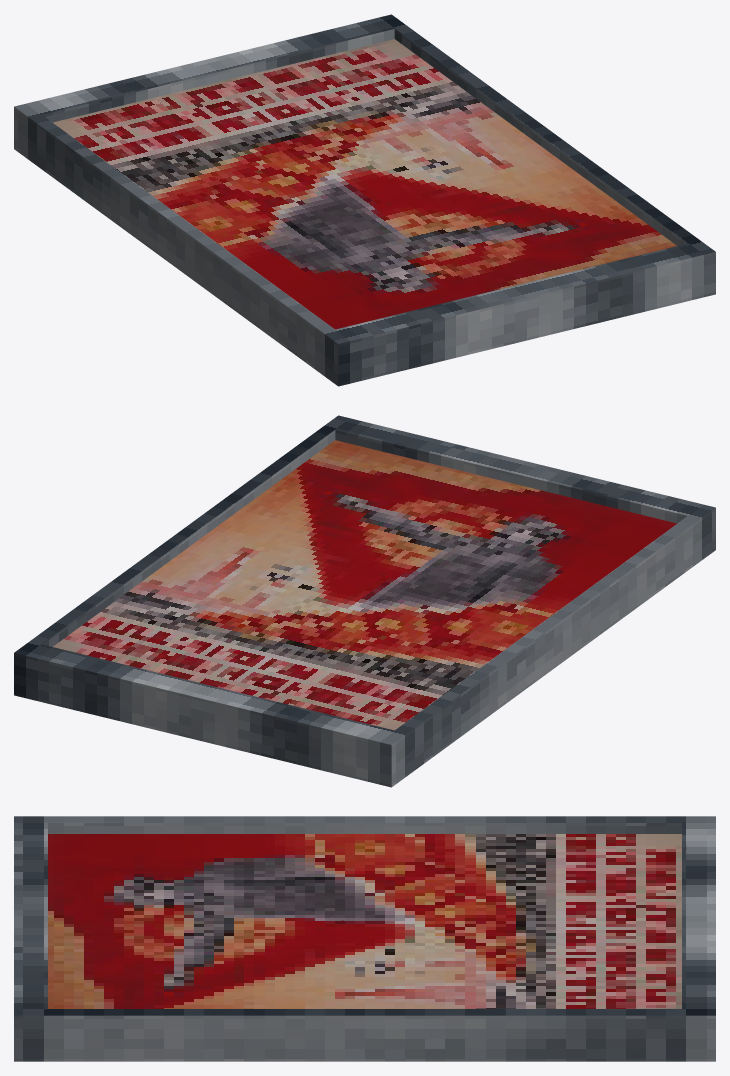
Rendered from env_billboard.glb.
The picture shows the model from 3 angles, top to bottom: view 1: azimuth 30°, elevation 25°; view 2: azimuth 150°, elevation 25°; view 3: azimuth 270°, elevation 25°; orthographic projection. The views are drawn at different scales.
Visible parts, largest first — view 1: env_billboard; view 2: env_billboard; view 3: env_billboard.
Boxes of the visible parts, <box> form: env_billboard: <box>14,14,715,386</box>; env_billboard: <box>14,415,715,787</box>; env_billboard: <box>14,816,715,1061</box>.
Bounding box in the file's own units: 0.00914 × 0.000984 × 0.0136.
Materials: 2 (2 with a texture image).
